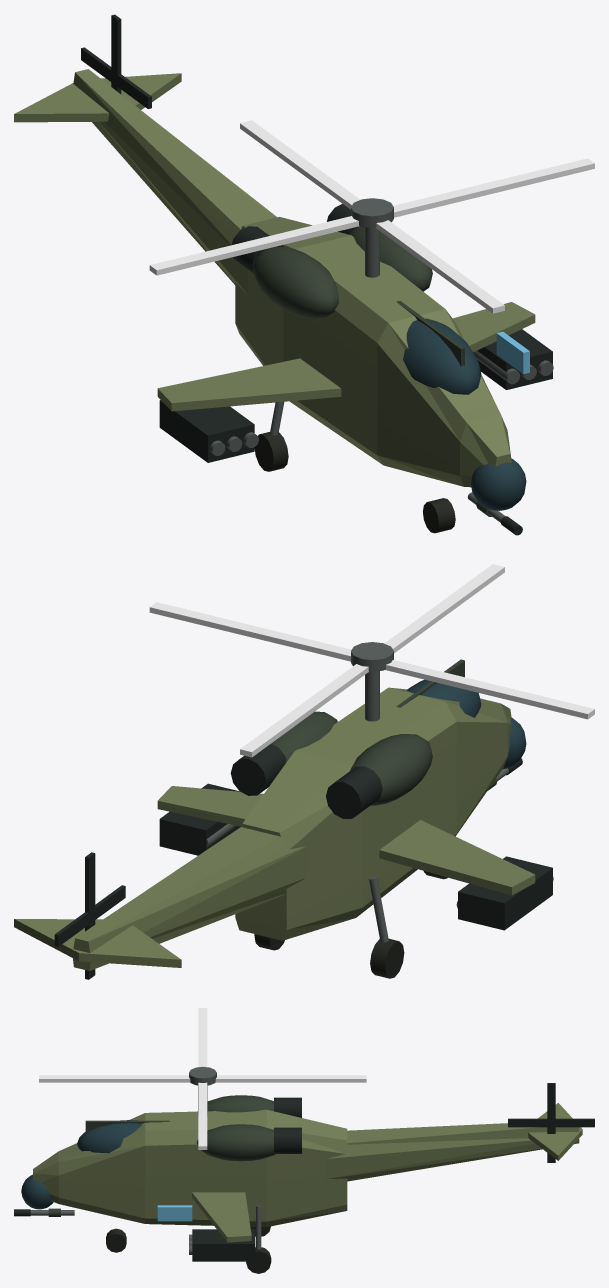
The model's file is gunship.glb.
The picture shows the model from 3 angles, top to bottom: view 1: azimuth 30°, elevation 25°; view 2: azimuth 150°, elevation 25°; view 3: azimuth 270°, elevation 25°; orthographic projection. The views are drawn at different scales.
Parts seen in each view (by area): view 1: armor, equipment (×4), glass, marking; view 2: armor, equipment (×4), glass; view 3: armor, equipment (×5), glass, marking.
Part boxes in pixels (x1,y1,x2,y2): armor: (14, 69, 535, 487); equipment (×4): (81, 14, 594, 533); glass: (403, 318, 526, 510); marking: (496, 331, 529, 374); armor: (14, 687, 535, 970); equipment (×4): (54, 564, 594, 979); glass: (406, 676, 526, 769); armor: (33, 1103, 582, 1242); equipment (×5): (14, 1008, 594, 1273); glass: (21, 1120, 141, 1209); marking: (157, 1205, 192, 1221).
Size of the model in its own units: 4.7 by 2.86 by 8.34.
